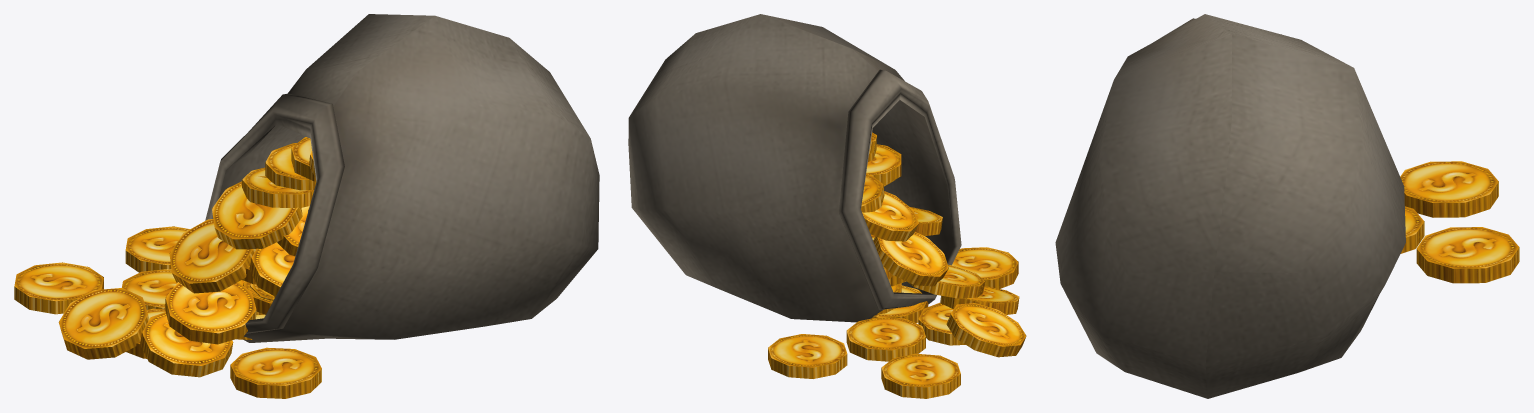
File: sack_coin_0091.fbx
3 renders of one model, left to right at view 1: azimuth 30°, elevation 25°; view 2: azimuth 150°, elevation 25°; view 3: azimuth 270°, elevation 25°, orthographic. The views are drawn at different scales.
Visible parts, largest first — view 1: sack_coin_0091; view 2: sack_coin_0091; view 3: sack_coin_0091.
Part boxes in pixels (box(x1,y1,x2,y2)): sack_coin_0091: box(14, 14, 599, 398); sack_coin_0091: box(628, 14, 1026, 398); sack_coin_0091: box(1055, 14, 1519, 398).
Size of the model in its own units: 24.99 by 15.33 by 19.16.
